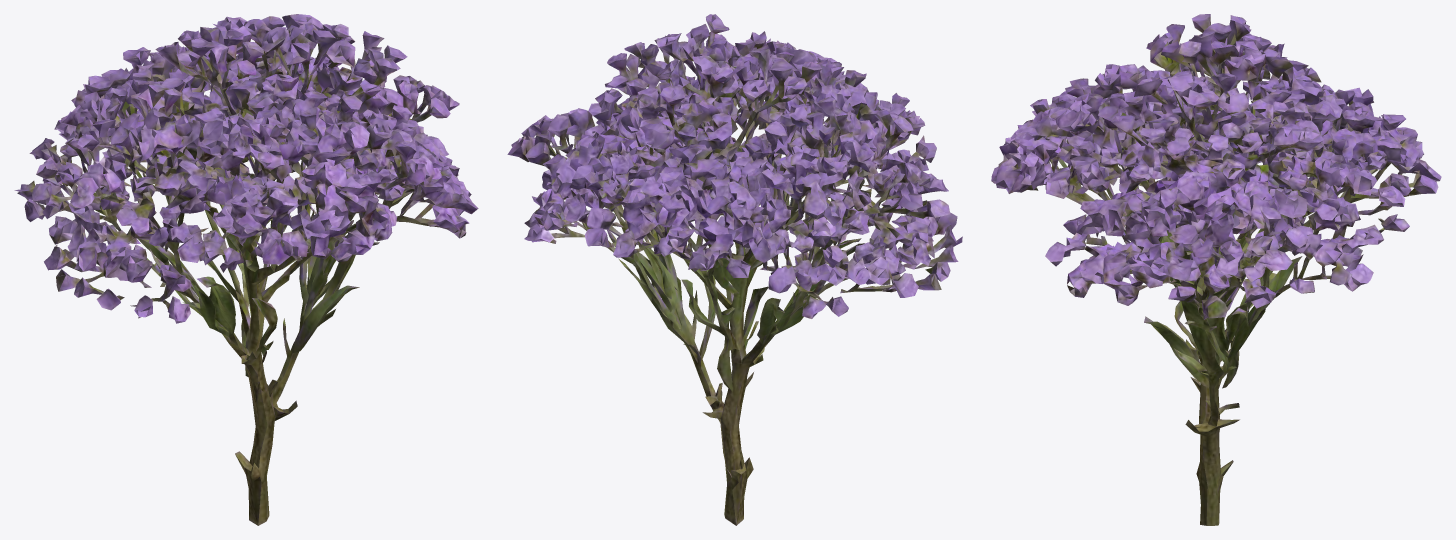
The model's file is lux-statice.glb.
3 views of the same model, side by side, from view 1: azimuth 30°, elevation 25°; view 2: azimuth 150°, elevation 25°; view 3: azimuth 270°, elevation 25° (orthographic). The views are drawn at different scales.
Visible parts, largest first — view 1: geometry_0; view 2: geometry_0; view 3: geometry_0.
Boxes of the visible parts, left/top/right/bottom form: geometry_0: left=14, top=14, right=478, bottom=525; geometry_0: left=507, top=14, right=962, bottom=525; geometry_0: left=991, top=14, right=1441, bottom=525.
Size of the model in its own units: 0.5568 by 0.6 by 0.5153.
Materials: 1 (1 with a texture image).
